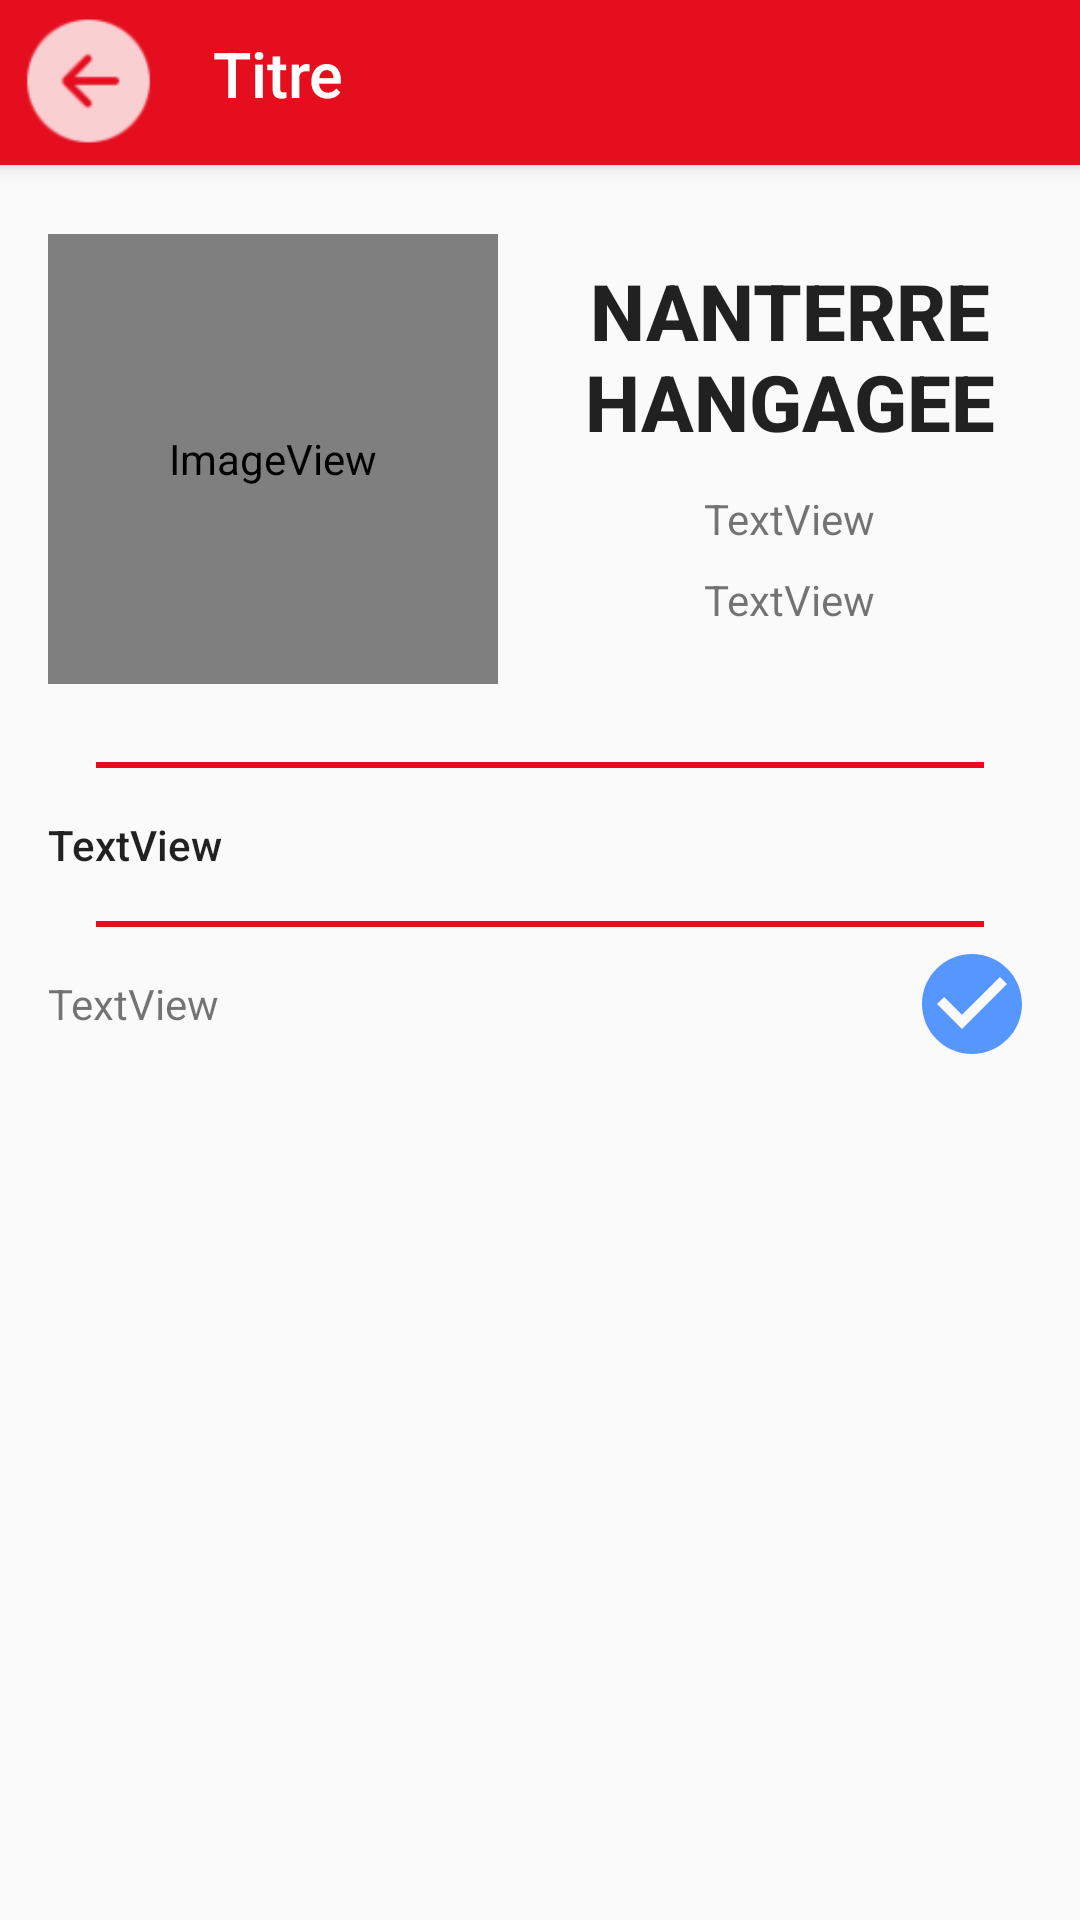

Point at icon controls on the screen. Image size 1080x1920, points as point (x, y).
back: point (88, 81)
certifier: point (972, 1004)
